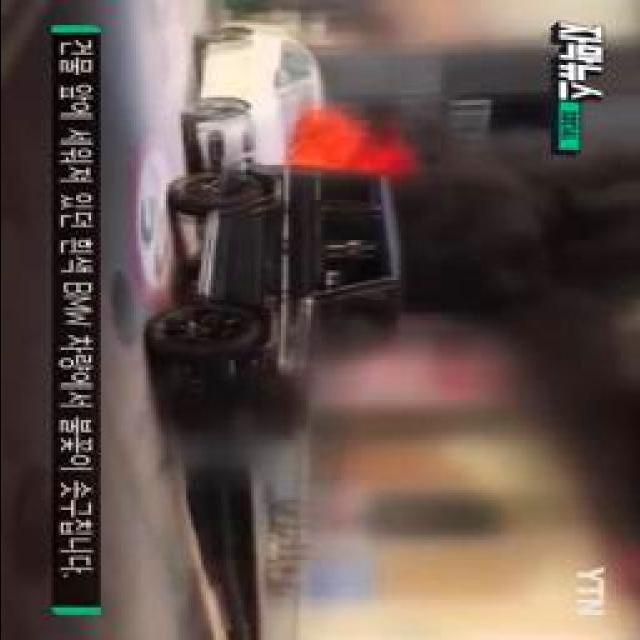Fire: (290, 118, 356, 168)
